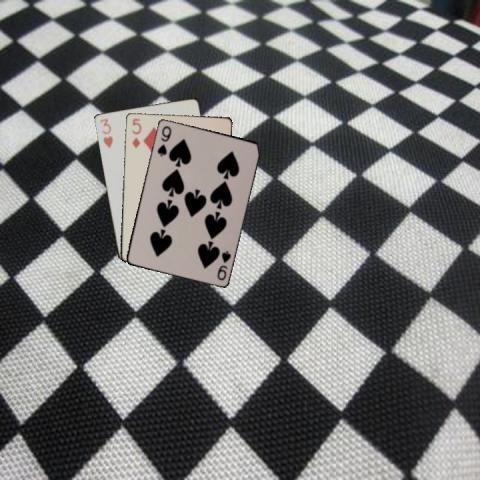3h: (97, 116, 114, 150)
5d: (129, 116, 142, 150)
9s: (154, 123, 173, 158), (214, 248, 232, 282)
